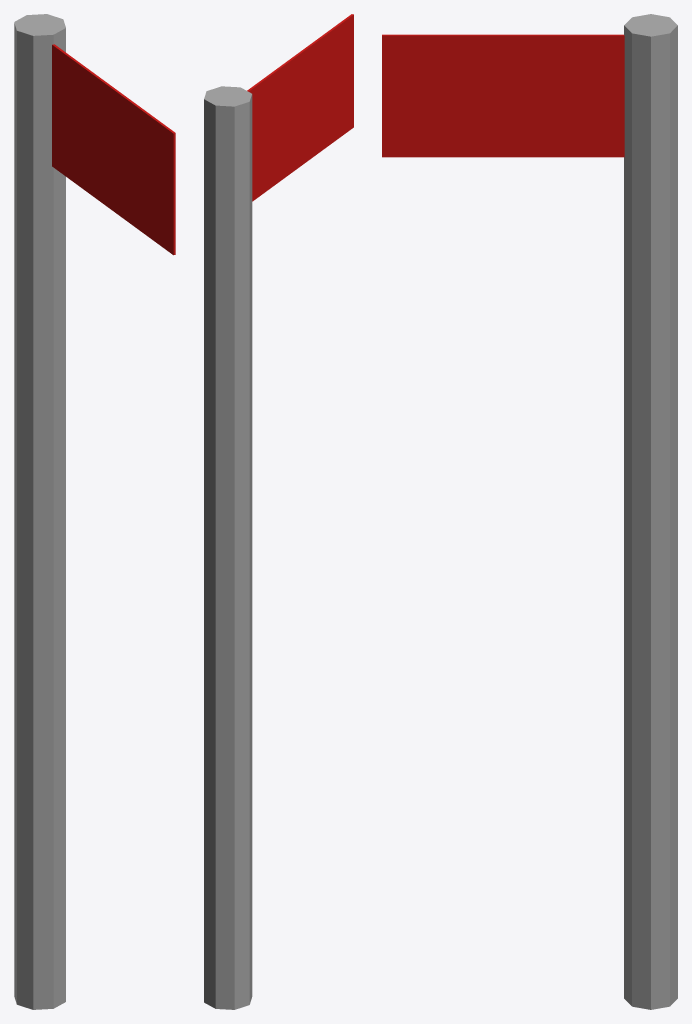
File: FootballCornerFlag.fbx
3 views of the same model, side by side, from view 1: azimuth 30°, elevation 25°; view 2: azimuth 150°, elevation 25°; view 3: azimuth 270°, elevation 25° (orthographic). The views are drawn at different scales.
Parts seen in each view (by area): view 1: Cylinder, Cube; view 2: Cylinder, Cube; view 3: Cylinder, Cube.
Boxes of the visible parts, left/top/right/bottom form: Cylinder: left=14, top=14, right=65, bottom=1009; Cube: left=52, top=44, right=175, bottom=255; Cylinder: left=204, top=86, right=252, bottom=1009; Cube: left=247, top=14, right=353, bottom=201; Cylinder: left=624, top=14, right=677, bottom=1009; Cube: left=382, top=34, right=624, bottom=157.
Size of the model in its own units: 10 by 200 by 55.07.
